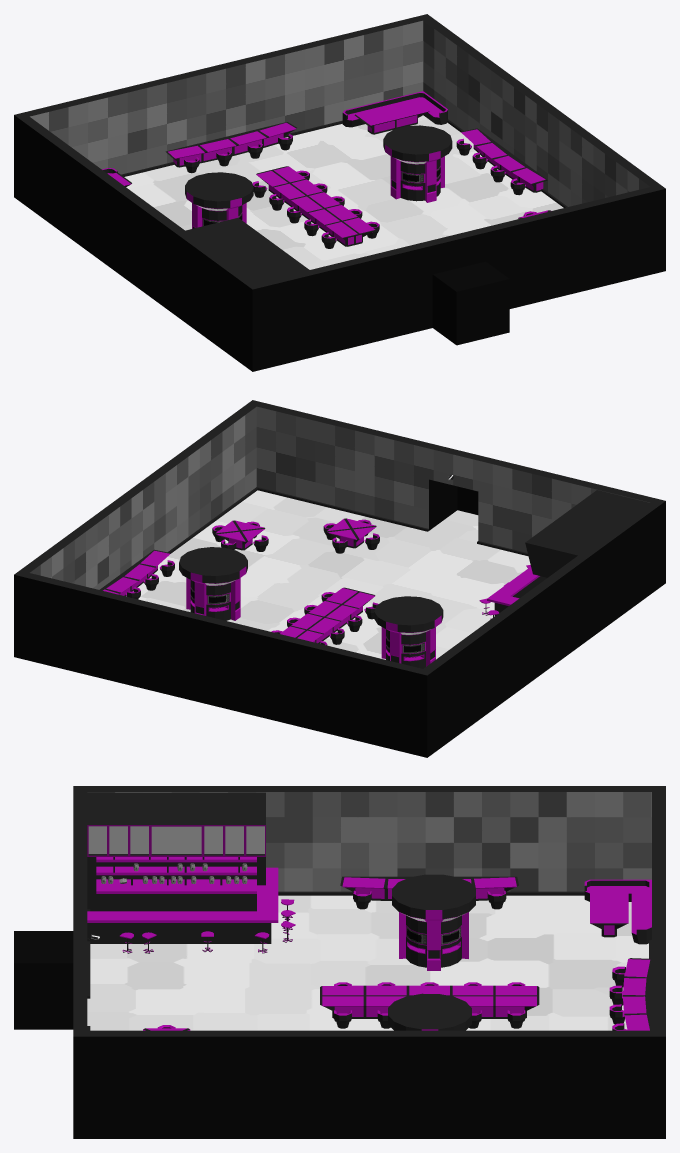
The model's file is Diner_1x1x1.fbx.
3 renders of one model, top to bottom at view 1: azimuth 30°, elevation 25°; view 2: azimuth 150°, elevation 25°; view 3: azimuth 270°, elevation 25°, orthographic. The views are drawn at different scales.
Parts seen in each view (by area): view 1: Diner_1x1x1; view 2: Diner_1x1x1; view 3: Diner_1x1x1.
Boxes of the visible parts, x1,y1,x2,y2 form: Diner_1x1x1: (14,14,665,371); Diner_1x1x1: (14,400,665,757); Diner_1x1x1: (14,786,665,1138).
Bounding box in the file's own units: 42 × 46.2 × 8.
